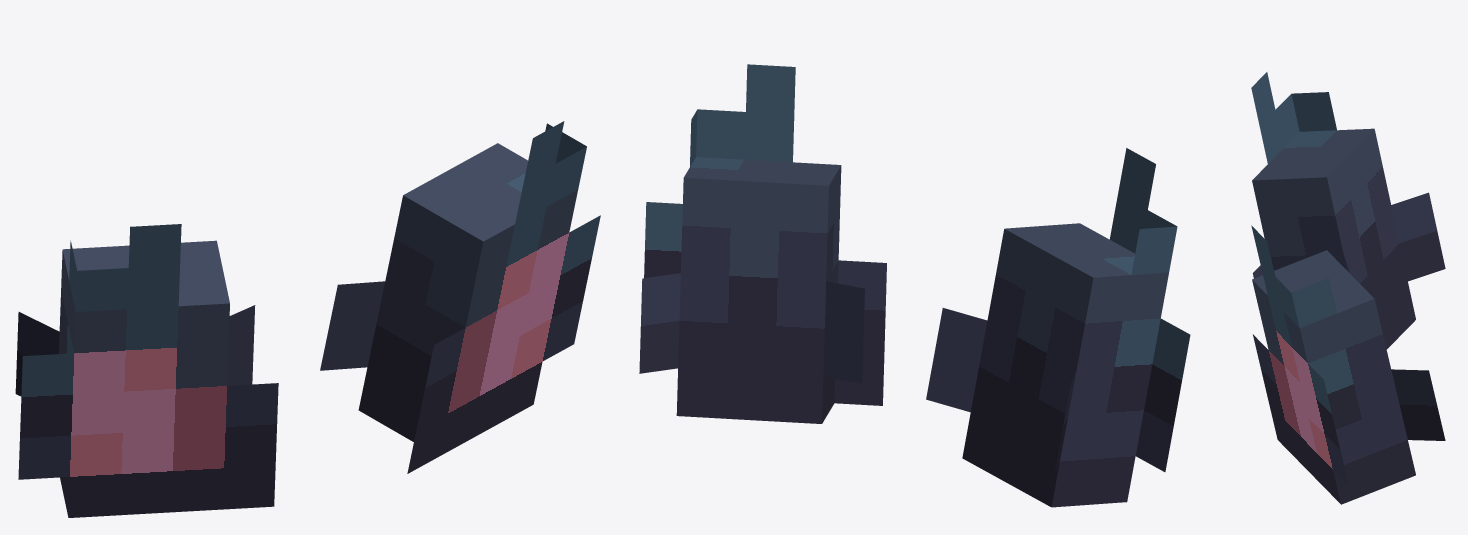
Rendered from sl_kitsune_ears.glb.
The picture shows the model from 3 angles, left to right: view 1: azimuth 30°, elevation 25°; view 2: azimuth 150°, elevation 25°; view 3: azimuth 270°, elevation 25°; orthographic projection. The views are drawn at different scales.
Visible parts, largest first — view 1: bb_kitsune_ears; view 2: bb_kitsune_ears; view 3: bb_kitsune_ears.
Part boxes in pixels (bbox=[...]): bb_kitsune_ears: bbox=[15, 121, 600, 517]; bb_kitsune_ears: bbox=[639, 64, 1190, 507]; bb_kitsune_ears: bbox=[1251, 72, 1445, 504].
Bounding box in the file's own units: 0.8143 × 0.5152 × 0.3413.
Materials: 1 (1 with a texture image).
